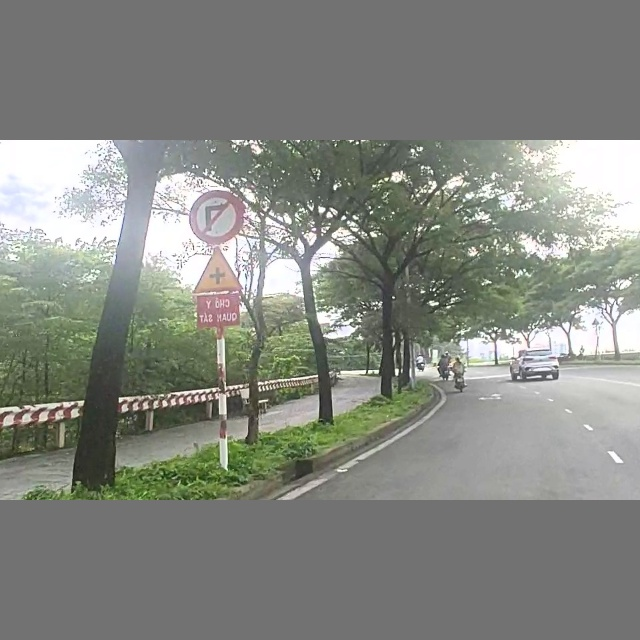P.123a: (186, 188, 246, 244)
W.205a: (186, 245, 243, 295)
